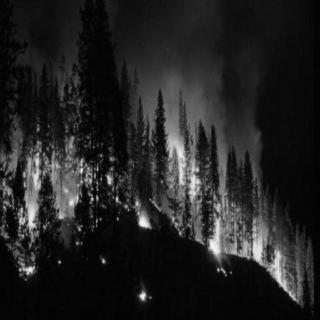Fire: (252, 218, 306, 306)
